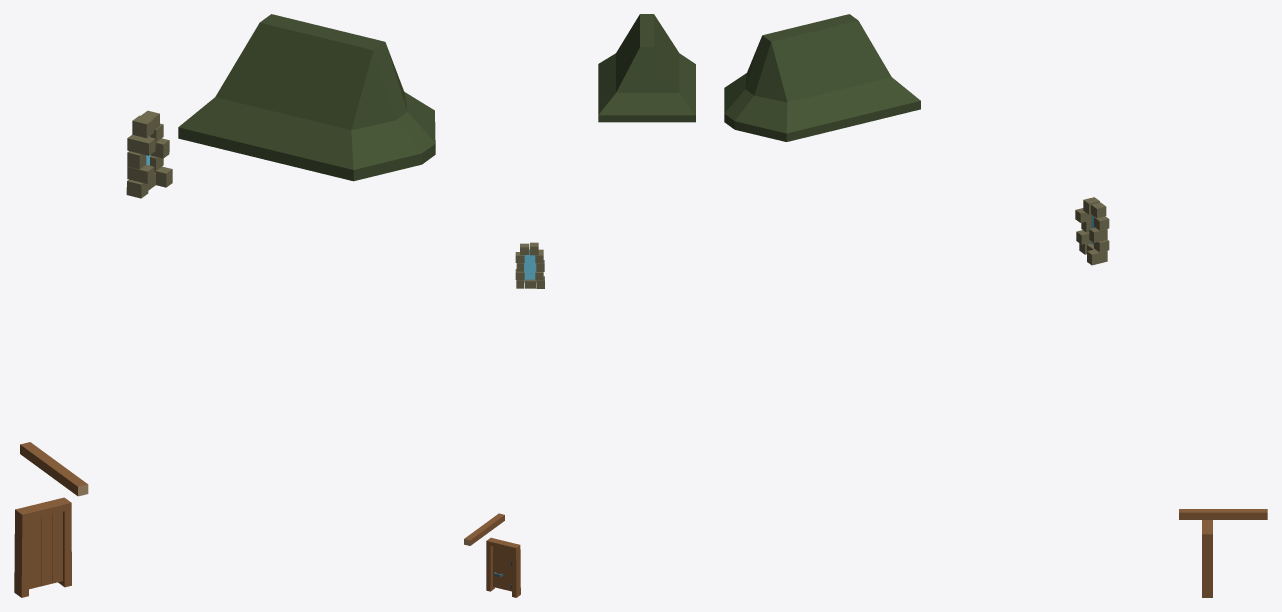
3 views of the same model, side by side, from view 1: azimuth 30°, elevation 25°; view 2: azimuth 150°, elevation 25°; view 3: azimuth 270°, elevation 25° (orthographic). The views are drawn at different scales.
Parts seen in each view (by area): view 1: Box15040_roof1_0, Object237_brown_0, Box15636_rock2_0, Box15412_brown_0; view 2: Box15040_roof1_0, Object237_brown_0, Box15636_rock2_0, Box15412_brown_0, Box15636_mirror_0; view 3: Box15040_roof1_0, Box15636_rock2_0, Box15412_brown_0, Object237_brown_0.
Boxes of the visible parts, bbox=[...] form: Box15040_roof1_0: bbox=[178, 14, 435, 181]; Object237_brown_0: bbox=[14, 497, 71, 597]; Box15636_rock2_0: bbox=[126, 110, 172, 198]; Box15412_brown_0: bbox=[20, 442, 87, 495]; Box15040_roof1_0: bbox=[598, 14, 695, 122]; Object237_brown_0: bbox=[486, 537, 520, 597]; Box15636_rock2_0: bbox=[515, 242, 544, 288]; Box15412_brown_0: bbox=[464, 513, 504, 545]; Box15636_mirror_0: bbox=[524, 249, 536, 282]; Box15040_roof1_0: bbox=[724, 14, 920, 141]; Box15636_rock2_0: bbox=[1075, 197, 1109, 265]; Box15412_brown_0: bbox=[1179, 509, 1267, 519]; Object237_brown_0: bbox=[1202, 520, 1212, 597].
Size of the model in its own units: 619 by 2091 by 1812.
